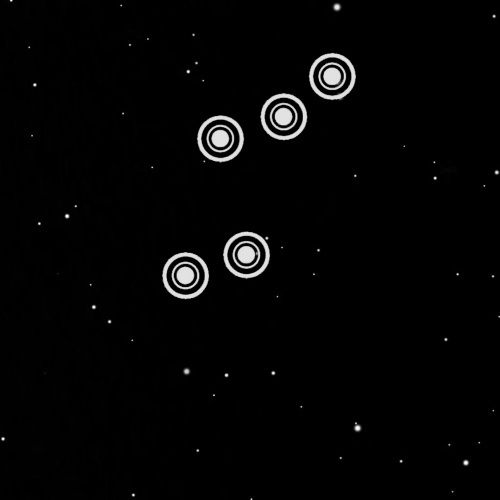lyra: (151, 36, 367, 312)
